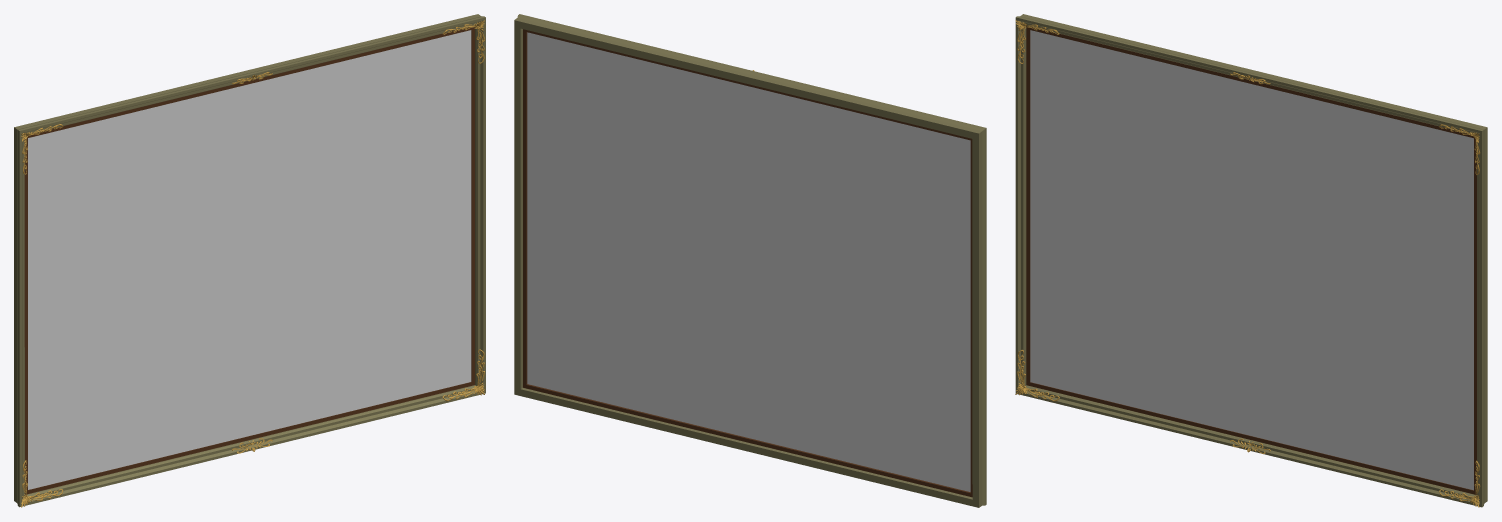
File: frame001_m.glb
3 renders of one model, left to right at view 1: azimuth 30°, elevation 25°; view 2: azimuth 150°, elevation 25°; view 3: azimuth 330°, elevation 25°, orthographic.
Visible parts, largest first — view 1: canvas_平面, frame_Cube.003, frame_inner_Cube.001, moyou001_Lines.001; view 2: canvas_平面, frame_Cube.003, frame_inner_Cube.001; view 3: canvas_平面, frame_Cube.003, frame_inner_Cube.001, moyou001_Lines.001.
Boxes of the visible parts, box(x1,y1,x2,y2) form: canvas_平面: box(28, 30, 471, 489); frame_Cube.003: box(14, 14, 485, 507); frame_inner_Cube.001: box(24, 26, 474, 494); moyou001_Lines.001: box(22, 21, 484, 504); canvas_平面: box(527, 32, 970, 491); frame_Cube.003: box(514, 14, 986, 507); frame_inner_Cube.001: box(523, 29, 972, 497); canvas_平面: box(1030, 30, 1473, 490); frame_Cube.003: box(1015, 14, 1487, 507); frame_inner_Cube.001: box(1026, 26, 1476, 494); moyou001_Lines.001: box(1017, 21, 1480, 504).
Bounding box in the file's own units: 27.21 × 21.02 × 0.783.
